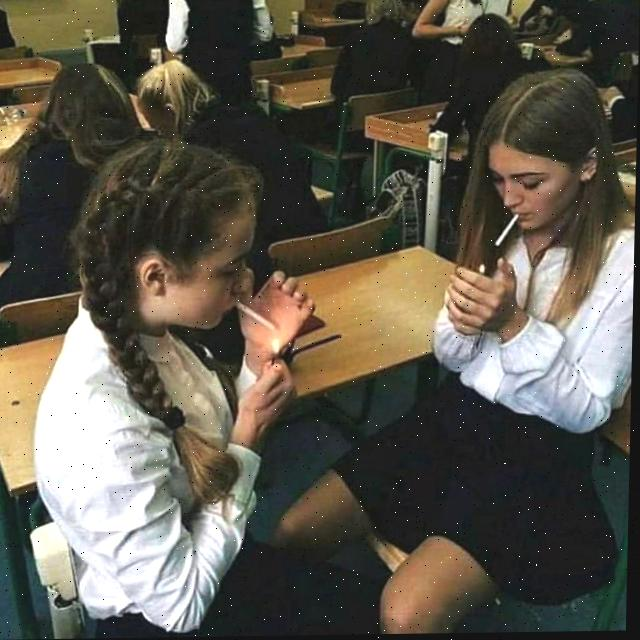cigarette: (236, 301, 279, 333), (496, 214, 520, 248)
